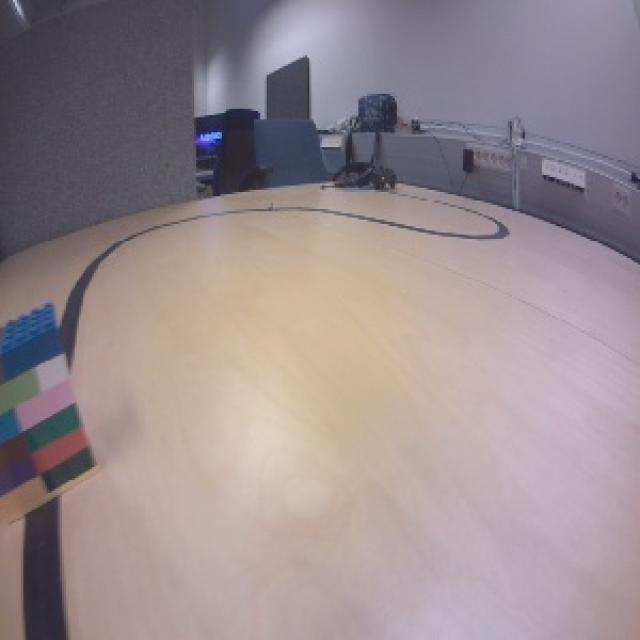obstacle: (0, 298, 106, 533)
